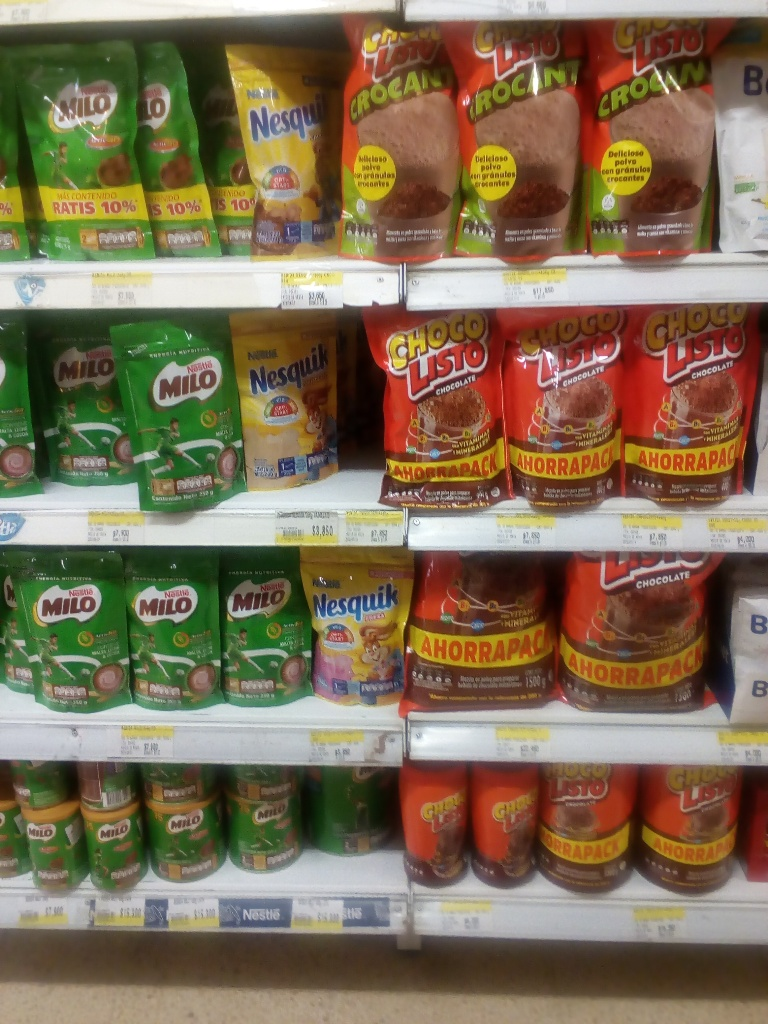COL0170102DYP50000: (334, 5, 461, 264)
COL0170103DYP1,500: (398, 545, 563, 717)
COL0170103DYP40000: (357, 298, 517, 511)
COL0170103TRR00100: (537, 741, 641, 896)
COL0170103TRR30000: (396, 758, 473, 880)
COL0170203DYP25000: (213, 545, 322, 704)
COL0170203LAT20000: (17, 805, 83, 895)
COL0170203LAT40000: (227, 789, 304, 871)
COL0170303DYP20000: (218, 34, 352, 263)
COL0170305DYP20000: (298, 537, 414, 710)
COL0170306DYP20000: (230, 305, 348, 499)
